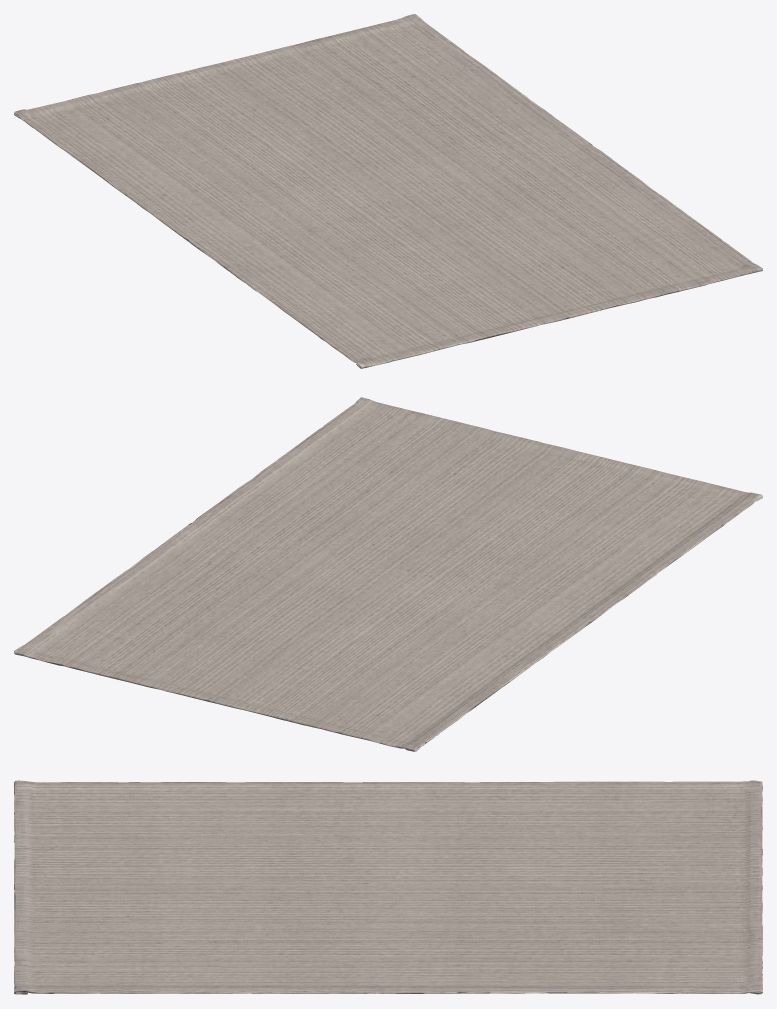
The model's file is tiphede_dywan_tkany_na_pasko_40456757.glb.
3 renders of one model, top to bottom at view 1: azimuth 30°, elevation 25°; view 2: azimuth 150°, elevation 25°; view 3: azimuth 270°, elevation 25°, orthographic. The views are drawn at different scales.
Visible parts, largest first — view 1: tiphede_dywan_tkany_na_pasko_40456757; view 2: tiphede_dywan_tkany_na_pasko_40456757; view 3: tiphede_dywan_tkany_na_pasko_40456757.
Part boxes in pixels (x1=…): tiphede_dywan_tkany_na_pasko_40456757: x1=14, y1=14, x2=762, y2=368; tiphede_dywan_tkany_na_pasko_40456757: x1=14, y1=397, x2=762, y2=751; tiphede_dywan_tkany_na_pasko_40456757: x1=14, y1=780, x2=762, y2=994.
Bounding box in the file's own units: 1.2 × 0.011 × 1.8.
1 material, 1 textured.
